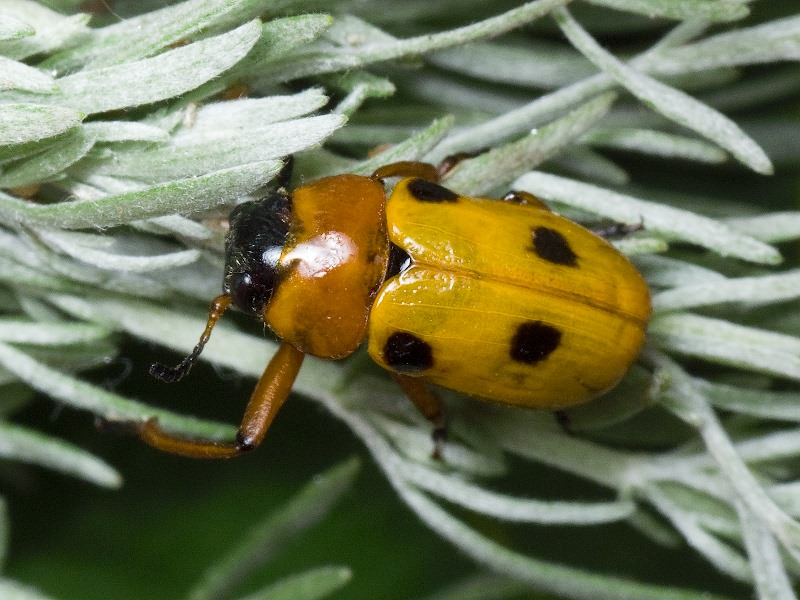Tituboea_macropus: (121, 137, 672, 538)
